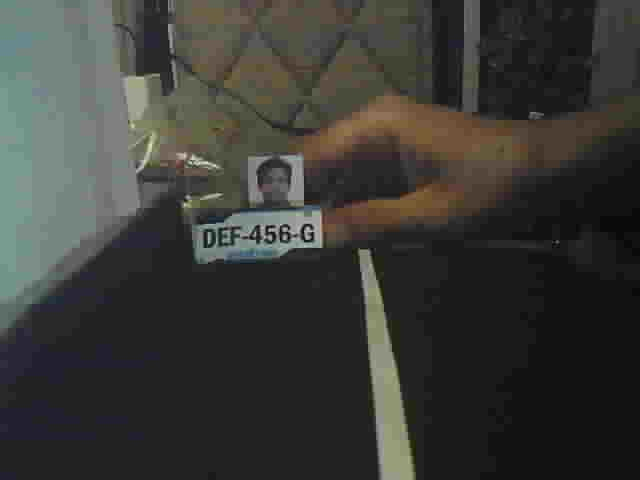PLACA: (192, 205, 325, 265)
ROSTRO: (247, 154, 305, 207)
